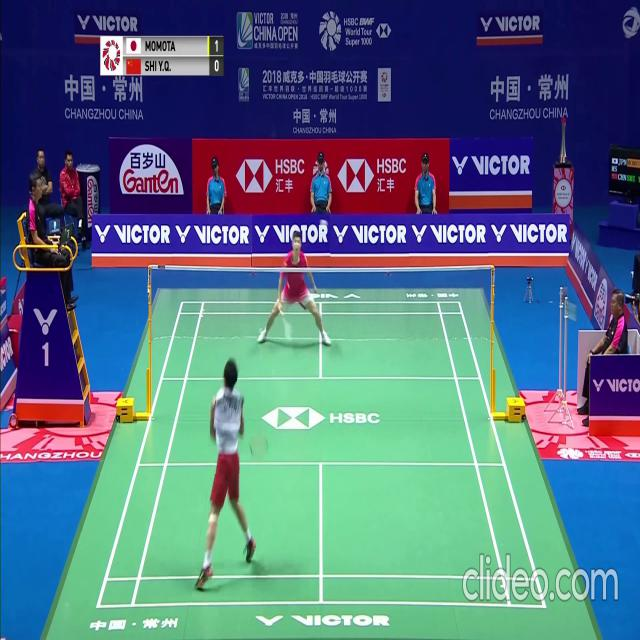Shuttlecock: (324, 220, 329, 228)
